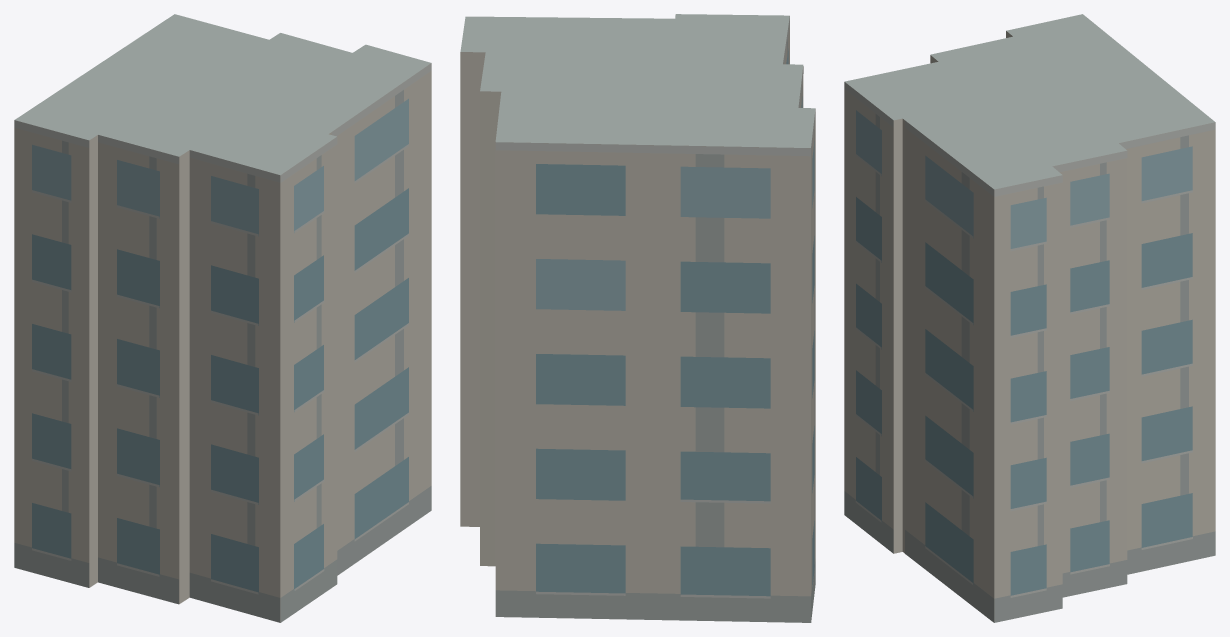
File: survey-upis-33036426.glb
The picture shows the model from 3 angles, left to right: view 1: azimuth 30°, elevation 25°; view 2: azimuth 150°, elevation 25°; view 3: azimuth 270°, elevation 25°; orthographic projection. The views are drawn at different scales.
Parts seen in each view (by area): view 1: survey-upis-33036426.tmp; view 2: survey-upis-33036426.tmp; view 3: survey-upis-33036426.tmp.
Part boxes in pixels (box(x1,y1,x2,y2)): survey-upis-33036426.tmp: box(14, 14, 431, 622); survey-upis-33036426.tmp: box(460, 14, 815, 622); survey-upis-33036426.tmp: box(844, 14, 1215, 622).
Bounding box in the file's own units: 12.43 × 14.3 × 11.11.
